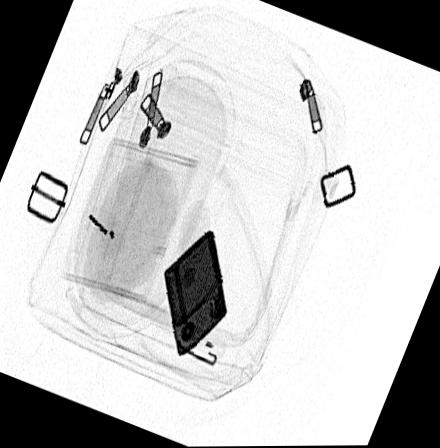Lighter: (162, 230, 227, 357)
